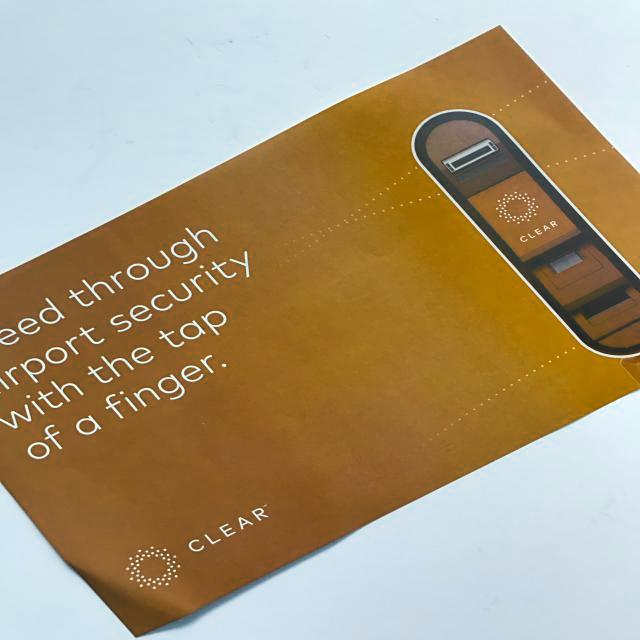paper: (3, 18, 640, 640)
